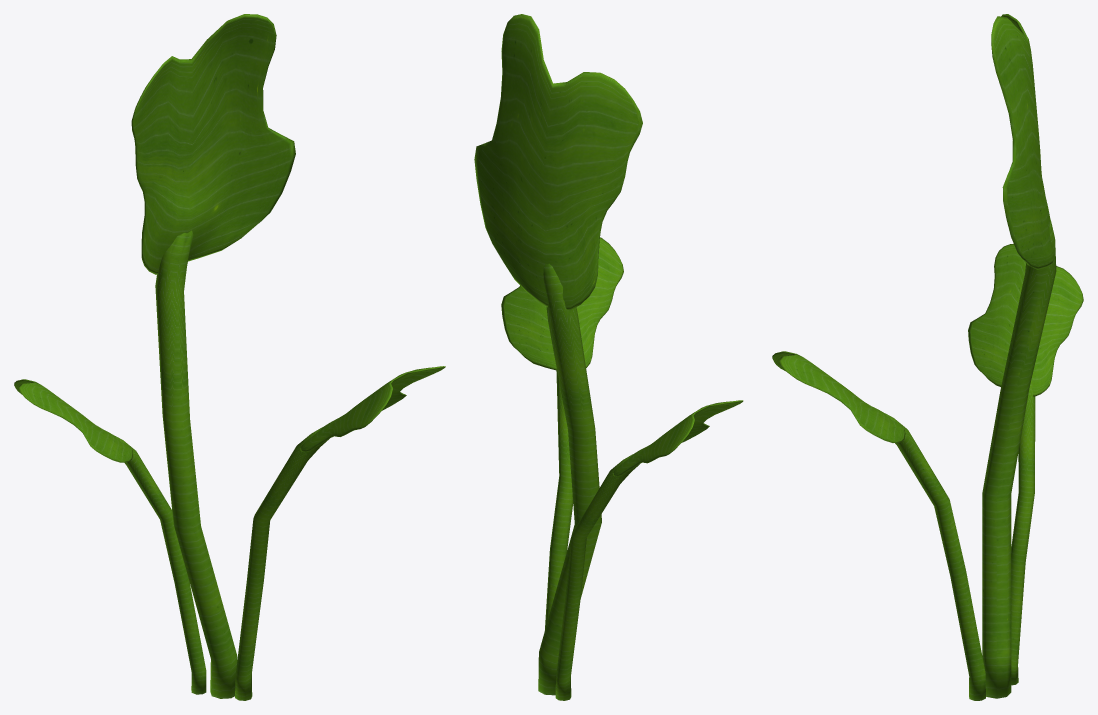
File: carrot1.fbx
3 renders of one model, left to right at view 1: azimuth 30°, elevation 25°; view 2: azimuth 150°, elevation 25°; view 3: azimuth 270°, elevation 25°, orthographic. The views are drawn at different scales.
Visible parts, largest first — view 1: carrot1; view 2: carrot1; view 3: carrot1.
Boxes of the visible parts, <box> form: carrot1: <box>14,14,445,700</box>; carrot1: <box>474,14,743,700</box>; carrot1: <box>772,14,1083,700</box>.
Bounding box in the file's own units: 0.1623 × 0.3289 × 0.1352.
1 material, 1 textured.
